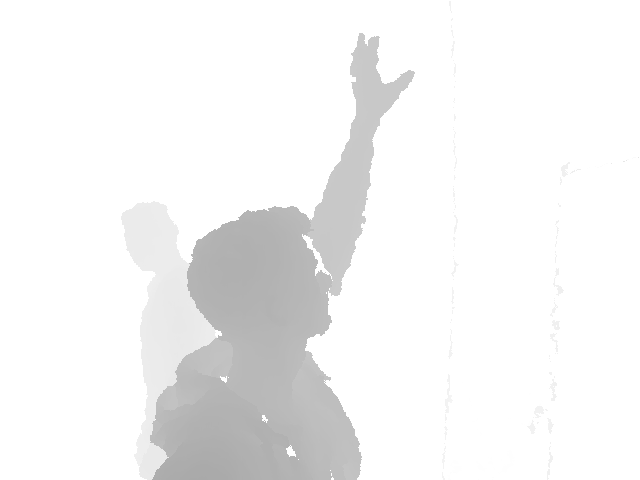hand: (349, 32, 416, 128)
head: (188, 204, 332, 349), (121, 202, 180, 271)
person: (149, 32, 415, 479), (121, 201, 217, 480)
